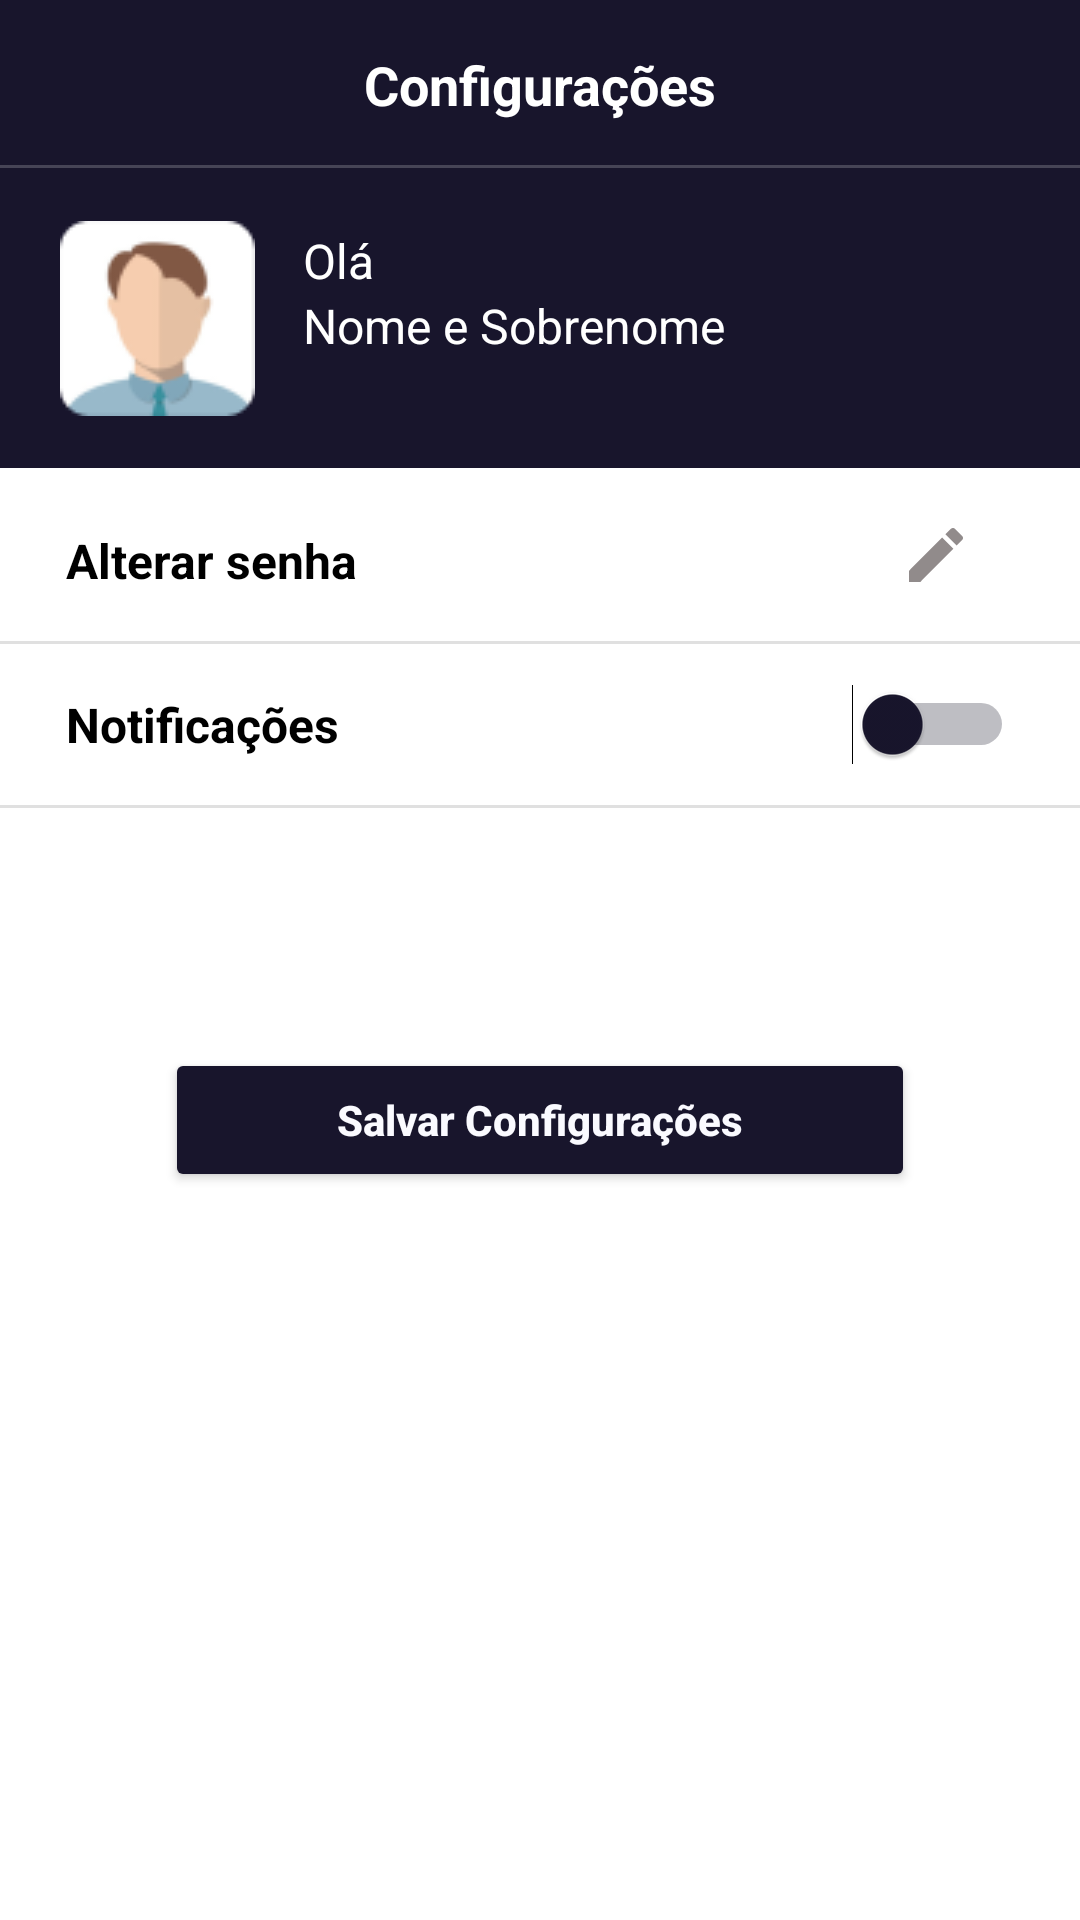

Screen size 1080px×1920px. Icon name, then its box in pixels as {"left": x1, "top": y1, "right": x2, "bottom": y2}:
edit: {"left": 909, "top": 528, "right": 963, "bottom": 582}
user: {"left": 60, "top": 221, "right": 255, "bottom": 416}
